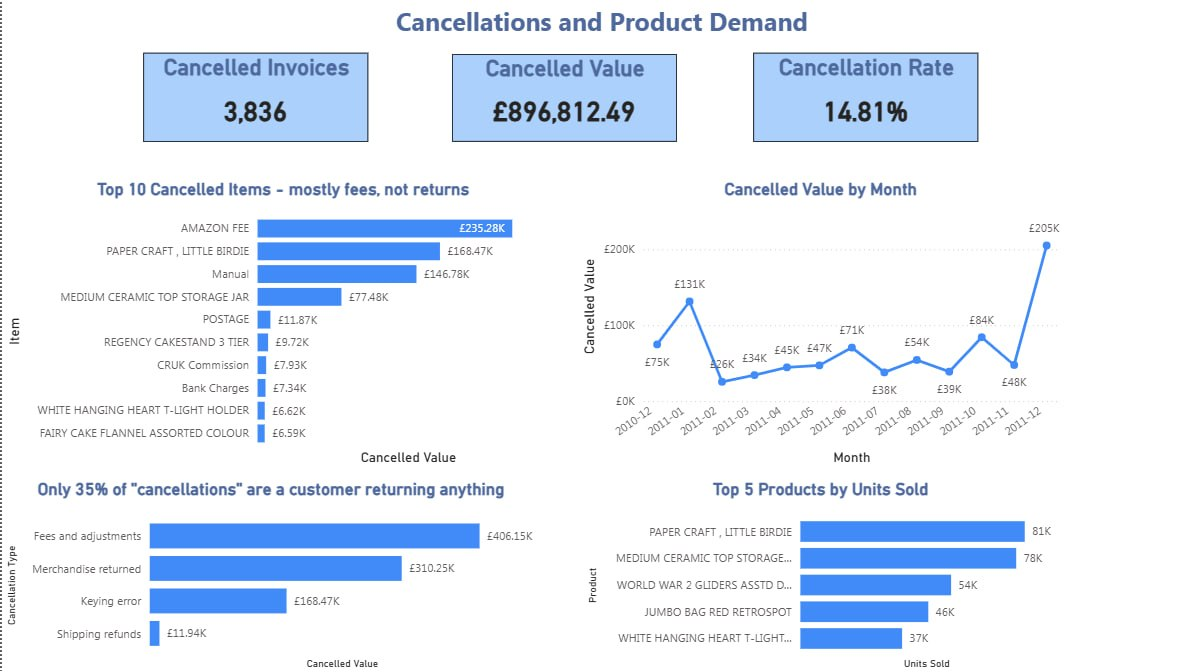

The page's visual inventory and layout, read from the dashboard file:
{"tool":"powerbi","page":{"name":"Cancellations","canvas":[1280,720],"ordinal":2},"visuals":[{"type":"textbox","box":[0,0,1280,58],"z":0},{"type":"card","title":"Cancelled Invoices","fields":{"Values":["_Measures.Cancelled Invoices"]},"box":[150,56.7,240,95],"z":1000},{"type":"card","title":"Cancelled Value","fields":{"Values":["_Measures.Cancelled Value"]},"box":[480,58.3,240,93.3],"z":2000},{"type":"card","title":"Cancellation Rate","fields":{"Values":["_Measures.Cancellation Rate"]},"box":[801.7,56.7,240,95],"z":3000},{"type":"lineChart","fields":{"Category":["DateTable.Year Month"],"Y":["_Measures.Cancelled Value"]},"box":[613.3,191.7,520,310],"z":4000},{"type":"clusteredBarChart","title":"Top 10 Cancelled Items - mostly fees, not returns","fields":{"Category":["public vw_cancellations.product_name"],"Y":["_Measures.Cancelled Value"]},"box":[0,191.7,600,310],"z":5000},{"type":"clusteredBarChart","title":"Only 35% of \"cancellations\" are a customer returning anything","fields":{"Category":["public vw_cancellations.Cancellation Type"],"Y":["_Measures.Cancelled Value"]},"box":[0,512,574,208],"z":6000},{"type":"clusteredBarChart","title":"Top 5 Products by Units Sold","fields":{"Category":["public vw_valid_sales.product_name"],"Y":["Sum(public vw_valid_sales.quantity)"]},"box":[620,511.7,506.7,208.3],"z":7000}]}

Visuals, with their boxes in screenshot pixels (x1, y1, x2, y2), scaled from the page's 1280x720 canvas onto the 1201x672 screenshot:
textbox: (left=0, top=0, right=1200, bottom=54)
"Cancelled Invoices" card: (left=141, top=53, right=366, bottom=142)
"Cancelled Value" card: (left=450, top=54, right=676, bottom=141)
"Cancellation Rate" card: (left=752, top=53, right=977, bottom=142)
lineChart - DateTable.Year Month x _Measures.Cancelled Value: (left=575, top=179, right=1063, bottom=468)
"Top 10 Cancelled Items - mostly fees, not returns" clusteredBarChart: (left=0, top=179, right=563, bottom=468)
"Only 35% of "cancellations" are a customer returning anything" clusteredBarChart: (left=0, top=478, right=539, bottom=671)
"Top 5 Products by Units Sold" clusteredBarChart: (left=582, top=478, right=1057, bottom=671)
